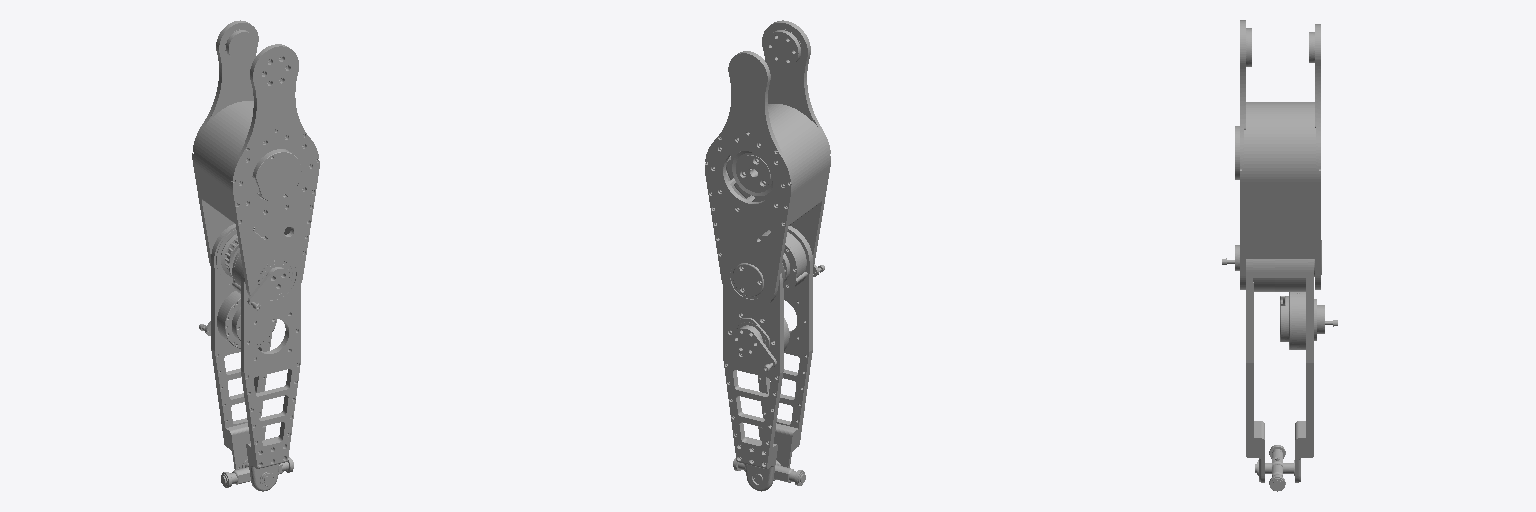
robot.urdf — total_robot_nl:
<?xml version="1.0" ?>
<robot name="total_robot_nl" xmlns:xacro="http://www.ros.org/wiki/xacro">

<link name="world"/>

<link name="base_link">
  <inertial>
    <origin xyz="0.197224872 0.0019294190715901938 9.221403702634745e-05" rpy="0 0 0"/>
    <mass value="3.4935634589938322"/>
    <inertia ixx="0.004865" iyy="0.013016" izz="0.012468" ixy="-0.000209" iyz="2.4e-05" ixz="-3.8e-05"/>
  </inertial>
  <visual>
    <origin xyz="0.015291 -0.105 0.088357" rpy="0 0 0"/>
    <geometry>
      <mesh filename="package://rbdl_ik_test_ros/meshes/left_hip_rp_1_1_1.stl" scale="0.001 0.001 0.001"/>
    </geometry>
    <material name="silver">
      <color rgba="0.700 0.700 0.700 1.000"/>
    </material>
  </visual>
</link>

<link name="left_upper_link_1_1_1">
  <inertial>
    <origin xyz="0.0005368519739045955 0.035504235319363794 -0.15022534580925995" rpy="0 0 0"/>
    <mass value="3.2234265717066637"/>
    <inertia ixx="0.017939" iyy="0.016979" izz="0.00754" ixy="-2.3e-05" iyz="0.000318" ixz="0.000252"/>
  </inertial>
  <visual>
    <origin xyz="-0.012959 -0.11025 0.088358" rpy="0 0 0"/>
    <geometry>
      <mesh filename="package://rbdl_ik_test_ros/meshes/left_upper_link_1_1_1.stl" scale="0.001 0.001 0.001"/>
    </geometry>
    <material name="silver">
      <color rgba="0.700 0.700 0.700 1.000"/>
    </material>
  </visual>
  <collision>
    <geometry>
      <sphere radius="0.06"/> 
    </geometry>
    <origin xyz="0 0.00075 -0.3" rpy="0 0 0"/>
  </collision>
</link>

<link name="left_lower_link_1_1_1">
  <inertial>
    <origin xyz="4.6165273849790855e-05 0.054578049116427114 -0.07736569907214441" rpy="0 0 0"/>
    <mass value="2.17378151180509"/>
    <inertia ixx="0.020231" iyy="0.018702" izz="0.003549" ixy="-3e-06" iyz="0.000559" ixz="-3.7e-05"/>
  </inertial>
  <visual>
    <origin xyz="-0.012959 -0.106762 0.388359" rpy="0 0 0"/>
    <geometry>
      <mesh filename="package://rbdl_ik_test_ros/meshes/left_lower_link_1_1_1.stl" scale="0.001 0.001 0.001"/>
    </geometry>
    <material name="silver">
      <color rgba="0.700 0.700 0.700 1.000"/>
    </material>
  </visual>
</link>

<link name="left_ankle_1_1_1">
  <inertial>
    <origin xyz="-5.379963106347946e-07 0.025749898301274596 2.7555327962835996e-05" rpy="0 0 0"/>
    <mass value="0.09508662408365151"/>
    <inertia ixx="1.3e-05" iyy="6.1e-05" izz="6.9e-05" ixy="-0.0" iyz="0.0" ixz="0.0"/>
  </inertial>
  <visual>
    <origin xyz="-0.012959 -0.110275 0.688358" rpy="0 0 0"/>
    <geometry>
      <mesh filename="package://rbdl_ik_test_ros/meshes/left_ankle_1_1_1.stl" scale="0.001 0.001 0.001"/>
    </geometry>
    <material name="silver">
      <color rgba="0.700 0.700 0.700 1.000"/>
    </material>
  </visual>
</link>






<joint name="base_joint" type="fixed">
  <origin xyz="0.0 0.0 0" rpy="0 0 0"/>
  <parent link="world"/>
  <child link="base_link"/>
  <!-- <axis xyz="0.0 0.0 -0.0"/>
  <limit upper="1.570796" lower="-0.523599" effort="40" velocity="4.188790204786399"/> -->
</joint>

<joint name="hip_pitch_left" type="revolute">
  <origin xyz="0.02825 0.00175 0" rpy="0 0 0"/>
  <parent link="base_link"/>
  <child link="left_upper_link_1_1_1"/>
  <axis xyz="0.0 -1.0 0"/>
  <limit upper="1.745329" lower="-0.471239" effort="65" velocity="5.236"/>
</joint>

<joint name="knee_left" type="revolute">
  <origin xyz="0.0 -0.003988 -0.3" rpy="0 0 0"/>
  <parent link="left_upper_link_1_1_1"/>
  <child link="left_lower_link_1_1_1"/>
  <axis xyz="-0.0 1.0 0"/>
  <limit upper="2.094395" lower="0.0" effort="65" velocity="5.236"/>
</joint>

<joint name="ankle_pitch_left" type="revolute">
  <origin xyz="0.0 0.000263 -0.3" rpy="0 0 0"/>
  <parent link="left_lower_link_1_1_1"/>
  <child link="left_ankle_1_1_1"/>
  <axis xyz="-0.0 -1.0 0"/>
  <limit upper="1.047197551" lower="-0.785398" effort="8" velocity="41.88790204786399"/>
</joint>

</robot>

--- What the picture shows (computed from the rendered views, not written in the file) ---
The picture shows the robot from 3 angles, left to right: view 1: azimuth 30°, elevation 25°; view 2: azimuth 150°, elevation 25°; view 3: azimuth 270°, elevation 25°; orthographic projection.
Robot: total_robot_nl — 5 links, 4 joints (3 revolute, 1 fixed); root link world; default pose: every joint at zero.
Links seen in each view (by area): view 1: left_upper_link_1_1_1, left_lower_link_1_1_1, left_ankle_1_1_1; view 2: left_upper_link_1_1_1, left_lower_link_1_1_1, left_ankle_1_1_1; view 3: left_upper_link_1_1_1, left_lower_link_1_1_1, left_ankle_1_1_1.
Boxes of the visible links, left/top/right/bottom form: left_upper_link_1_1_1: left=192, top=20, right=319, bottom=307; left_lower_link_1_1_1: left=199, top=224, right=300, bottom=491; left_ankle_1_1_1: left=221, top=457, right=293, bottom=487; left_upper_link_1_1_1: left=705, top=20, right=830, bottom=309; left_lower_link_1_1_1: left=723, top=226, right=824, bottom=491; left_ankle_1_1_1: left=733, top=458, right=805, bottom=485; left_upper_link_1_1_1: left=1235, top=20, right=1320, bottom=289; left_lower_link_1_1_1: left=1222, top=240, right=1337, bottom=482; left_ankle_1_1_1: left=1255, top=445, right=1294, bottom=491.
Size in the robot's own frame: 0.132 by 0.1499 by 0.654 metres.
3 mesh visuals loaded from 4 distinct referenced files (3 binary STL); not drawn: 1 (reference not matched to a file when rendering).
